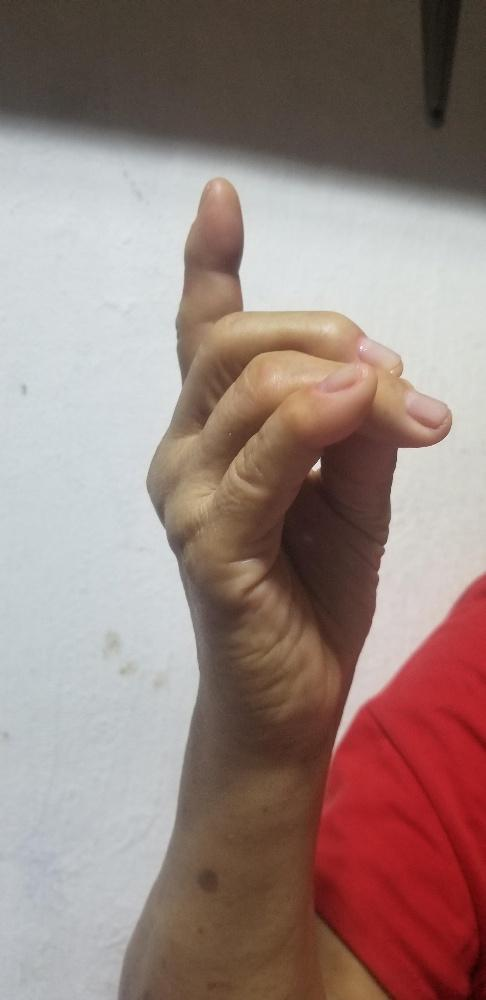d: (144, 174, 452, 697)
